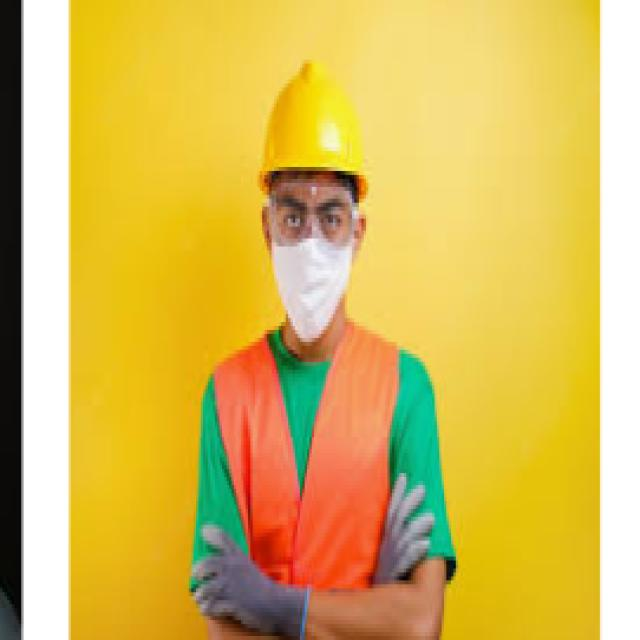glasses: (258, 193, 366, 260)
